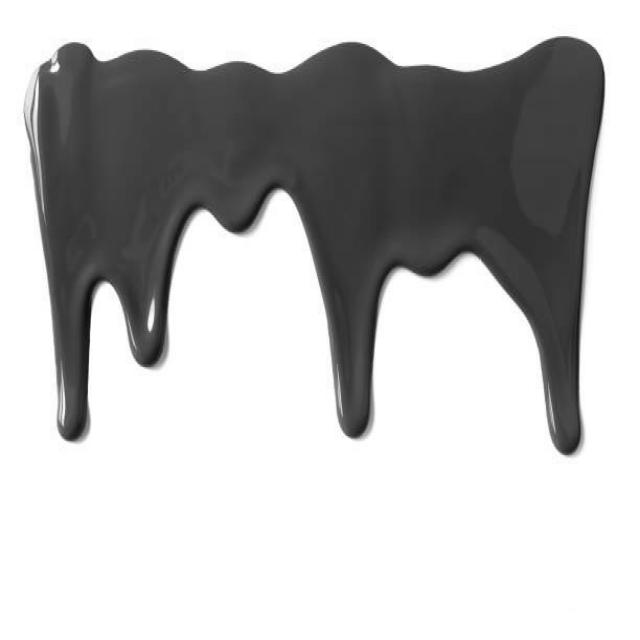paint drips: (25, 119, 593, 469)
